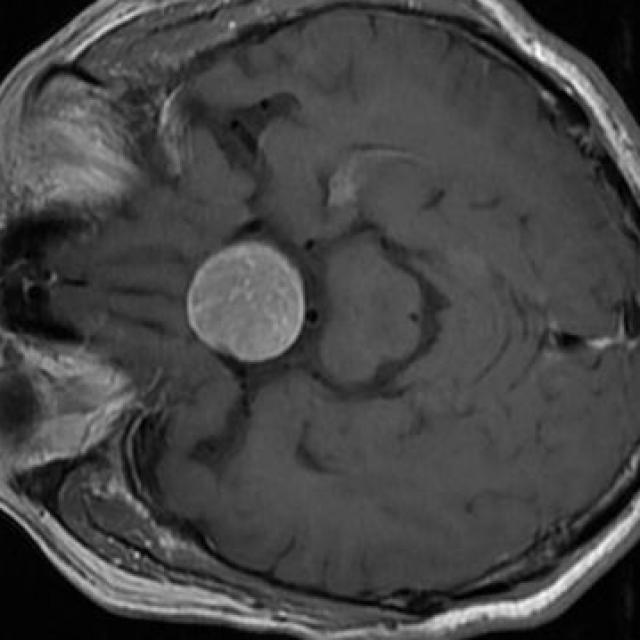pituitary: (185, 241, 307, 365)
